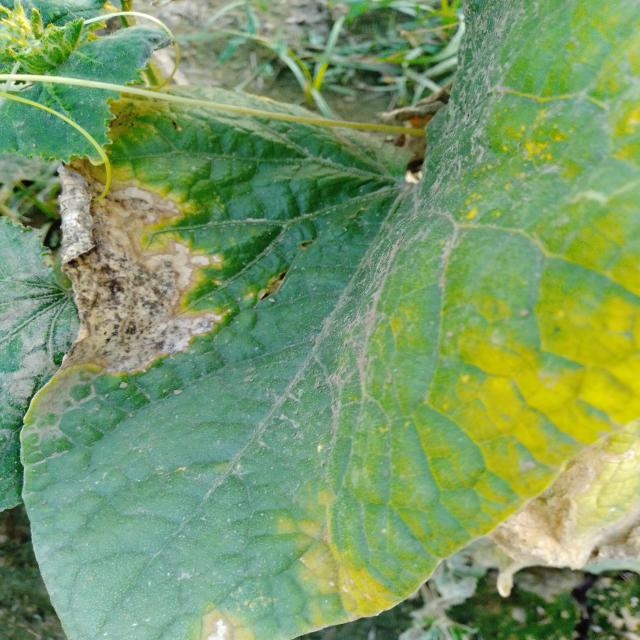cucumber_gummy: (15, 0, 640, 640)
